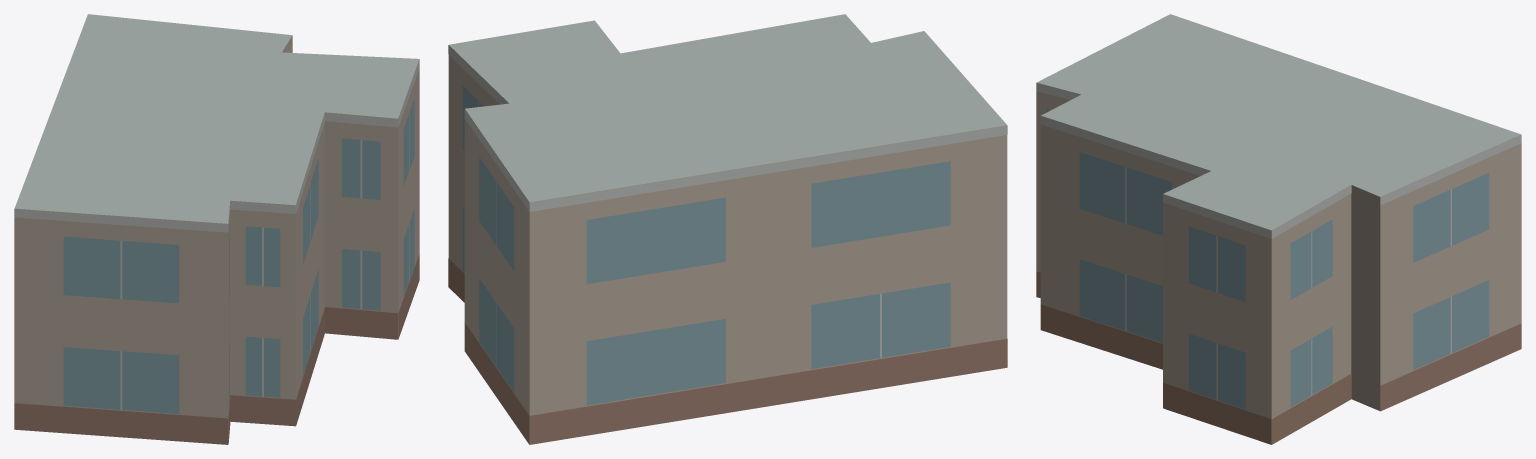
Rendered from survey-upis-32929020.glb.
3 views of the same model, side by side, from view 1: azimuth 30°, elevation 25°; view 2: azimuth 150°, elevation 25°; view 3: azimuth 270°, elevation 25° (orthographic). The views are drawn at different scales.
Parts seen in each view (by area): view 1: survey-upis-32929020.tmp; view 2: survey-upis-32929020.tmp; view 3: survey-upis-32929020.tmp.
Part boxes in pixels (x1,y1,x2,y2): survey-upis-32929020.tmp: (14, 14, 419, 444); survey-upis-32929020.tmp: (448, 14, 1007, 444); survey-upis-32929020.tmp: (1036, 14, 1521, 444).
Size of the model in its own units: 13.22 by 6.1 by 12.52.
